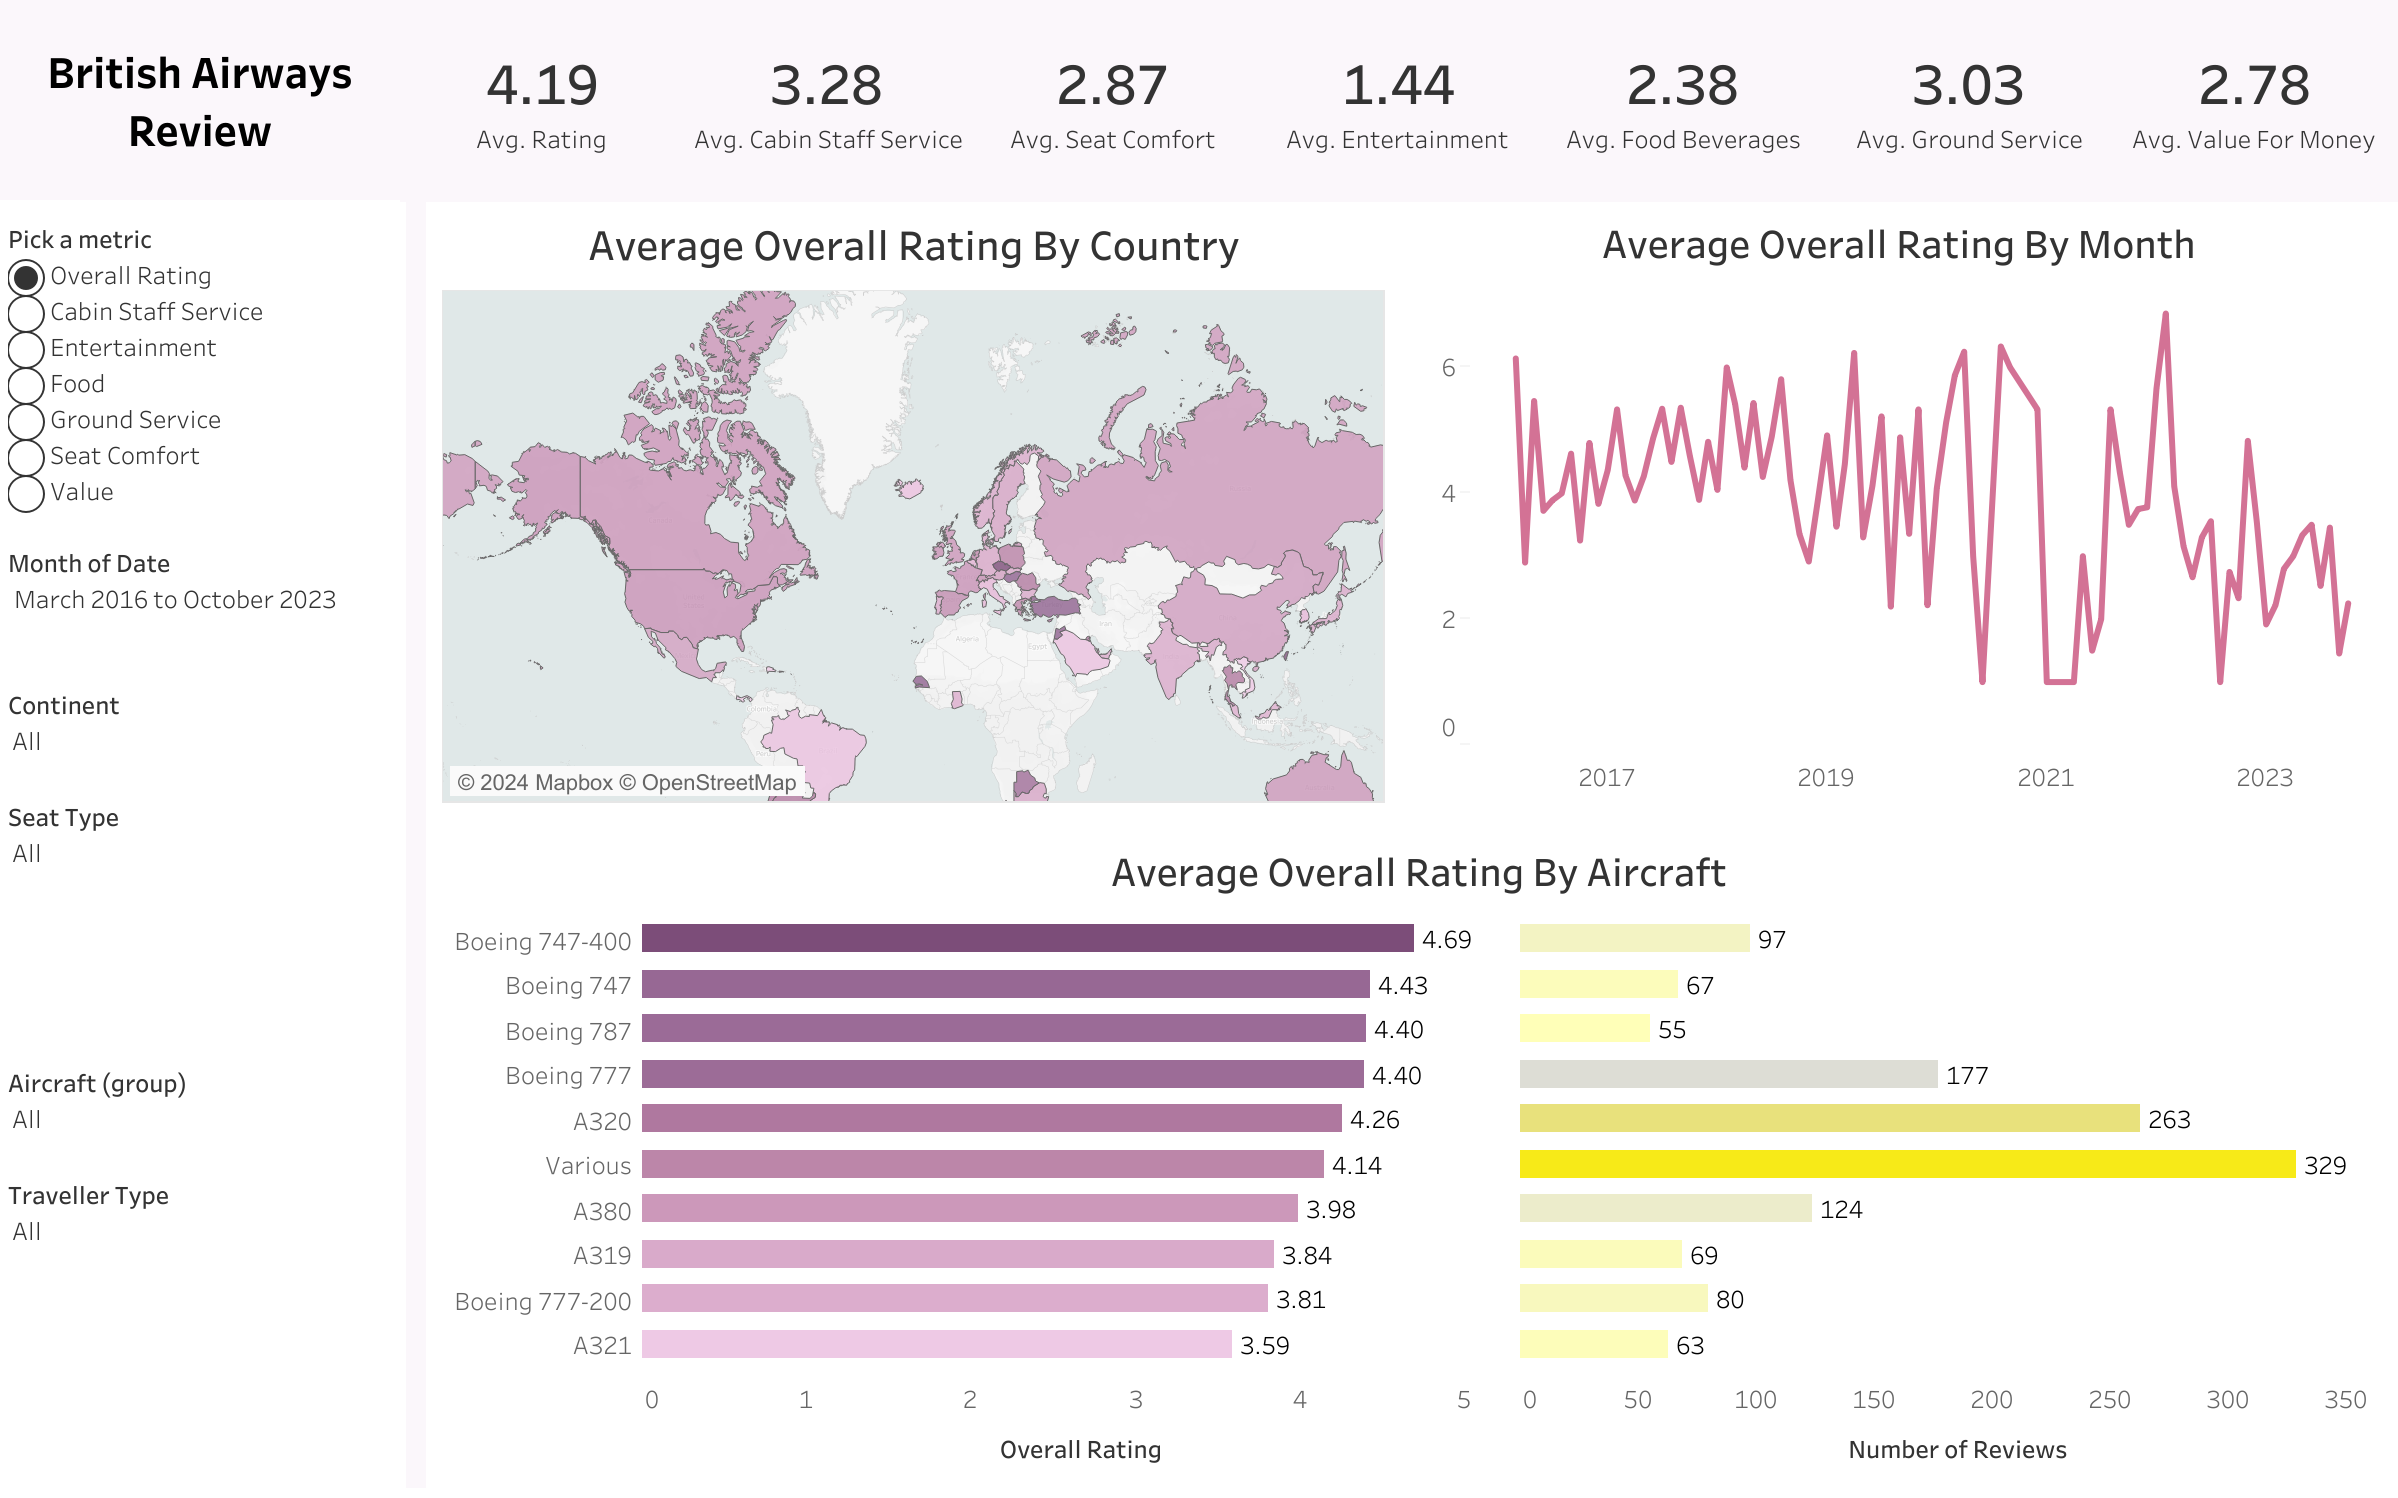

The dashboard page shown, as its layout file describes it:
{"tool":"tableau","page":{"name":"Dashboard 1","canvas":[1200,750],"ordinal":0},"visuals":[{"type":"text","box":[0,0,200,100]},{"type":"worksheet","title":"Summary","mark":"Automatic","box":[200,0,999,100]},{"type":"blank","box":[203,97,10,647]},{"type":"worksheet","title":"Map","mark":"Automatic","box":[221,102,472,300]},{"type":"worksheet","title":"Month","mark":"Automatic","rows":["Calculation_77264893134565376"],"cols":["date"],"box":[703,102,493,300]},{"type":"parameter","param":"[Parameters].[Parameter 1]","box":[0,105,200,165]},{"type":"filter","title":"Map","param":"[federated.14n7opf1ny058t10a0d750rm0cia].[tmn:date:qk]","box":[0,270,200,71]},{"type":"filter","title":"Map","param":"[federated.14n7opf1ny058t10a0d750rm0cia].[none:Continent:nk]","box":[0,341,200,52]},{"type":"filter","title":"Map","param":"[federated.14n7opf1ny058t10a0d750rm0cia].[none:seat_type:nk]","box":[0,393,200,127]},{"type":"worksheet","title":"Aircraft","mark":"Automatic","cols":["Calculation_77264893134565376","ba_reviews.csv_0507AFC9F95E43879A62E8E91A045D22"],"box":[221,416,977,324]},{"type":"filter","title":"Map","param":"[federated.14n7opf1ny058t10a0d750rm0cia].[Aircraft (group)]","box":[0,520,200,52]},{"type":"filter","title":"Map","param":"[federated.14n7opf1ny058t10a0d750rm0cia].[none:traveller_type:nk]","box":[0,572,200,146]}]}

Visuals, with their boxes in screenshot pixels (x1, y1, x2, y2), scaled from the page's 1200x750 canvas onto the 2398x1498 screenshot:
text: detection(0, 0, 400, 200)
"Summary" worksheet: detection(400, 0, 2396, 200)
blank: detection(406, 194, 426, 1486)
"Map" worksheet: detection(442, 204, 1385, 803)
"Month" worksheet: detection(1405, 204, 2390, 803)
parameter: detection(0, 210, 400, 539)
"Map" filter: detection(0, 539, 400, 681)
"Map" filter: detection(0, 681, 400, 785)
"Map" filter: detection(0, 785, 400, 1039)
"Aircraft" worksheet: detection(442, 831, 2394, 1478)
"Map" filter: detection(0, 1039, 400, 1142)
"Map" filter: detection(0, 1142, 400, 1434)
